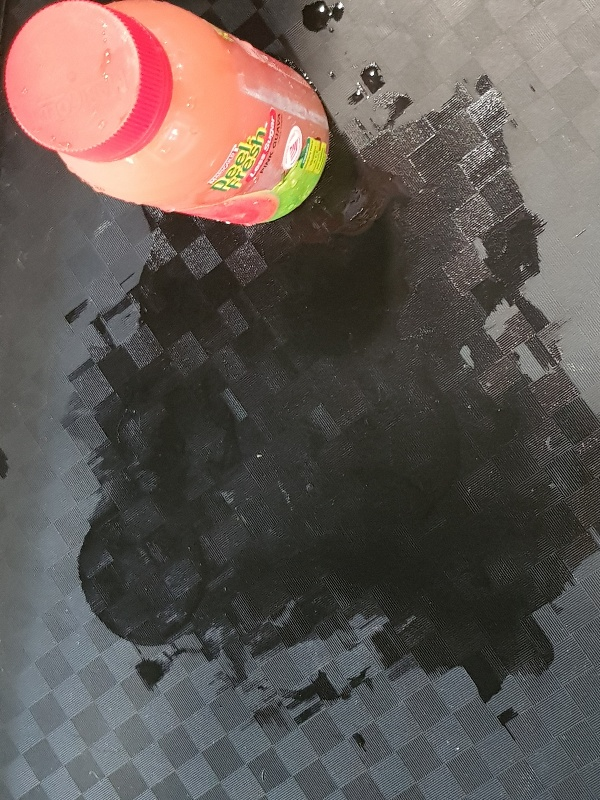Marigold Peel Fresh Pink Guava Juice Drink: (2, 1, 331, 225)
